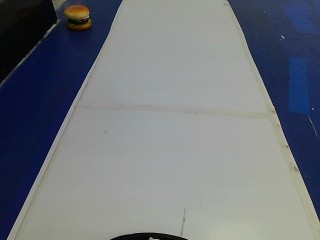burger: (57, 4, 94, 35)
